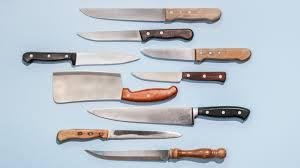Knife: (52, 71, 177, 103), (87, 105, 250, 125), (79, 7, 221, 23), (84, 147, 226, 161), (56, 128, 182, 143), (139, 46, 251, 62), (22, 51, 140, 65), (76, 28, 193, 42), (130, 71, 226, 82)
